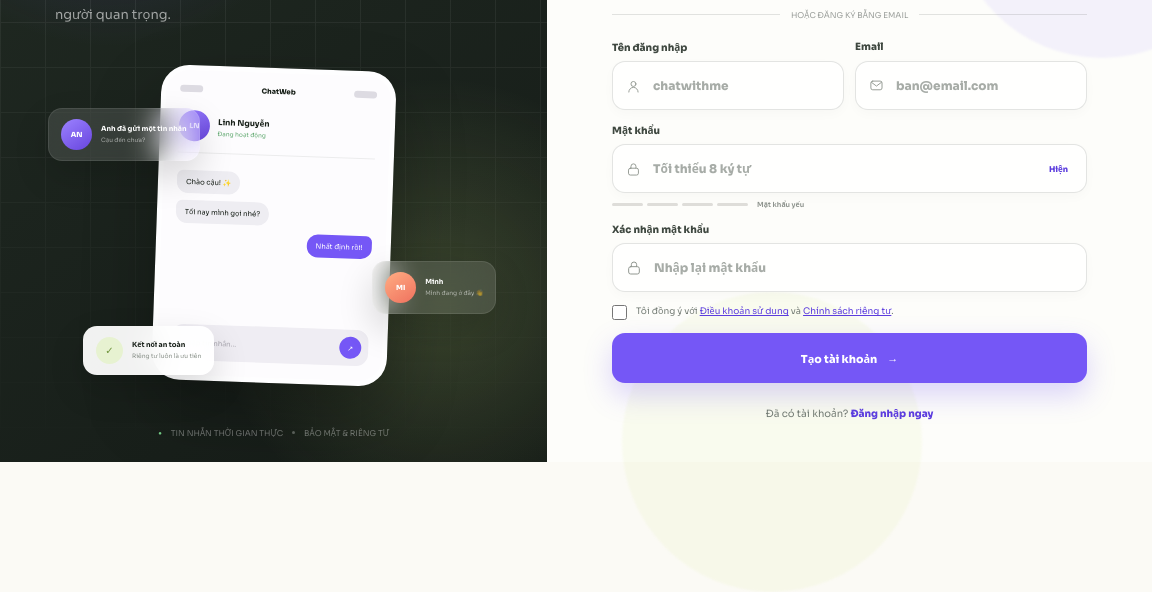
Test: RegisterPage › validates form errors on empty submit
(page scrolled)
Click the submit button: (850, 358) [612, 334, 1087, 384]
(page scrolled)
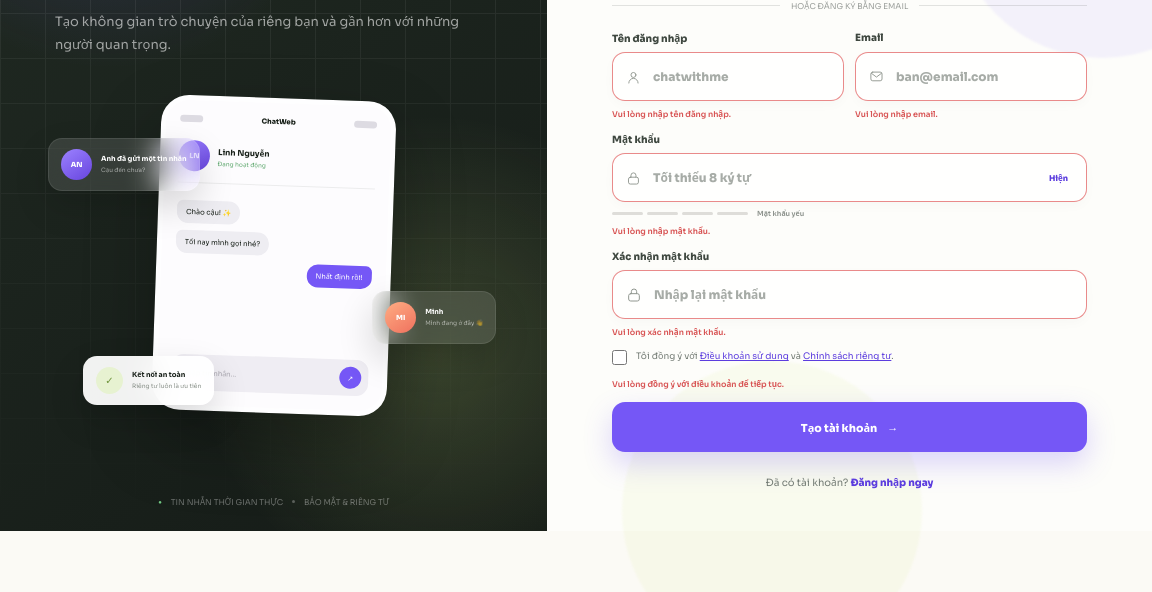
Check: the text "Vui lòng nhập tên đăng nhập." is shown, box [612, 110, 731, 120]
Check: the text "Vui lòng nhập email." is shown, box [855, 109, 938, 119]
Check: the text "Vui lòng nhập mật khẩu." is shown, box [612, 226, 710, 236]
